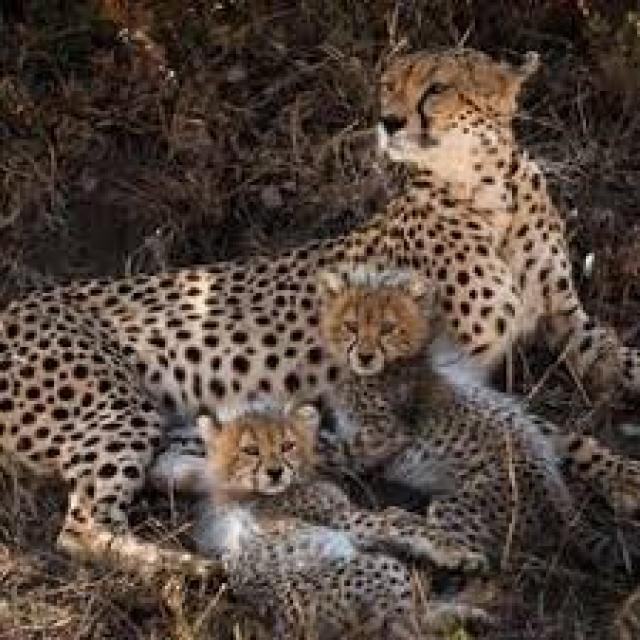Jaguar: (29, 62, 612, 515), (319, 265, 634, 566), (182, 395, 455, 620)
